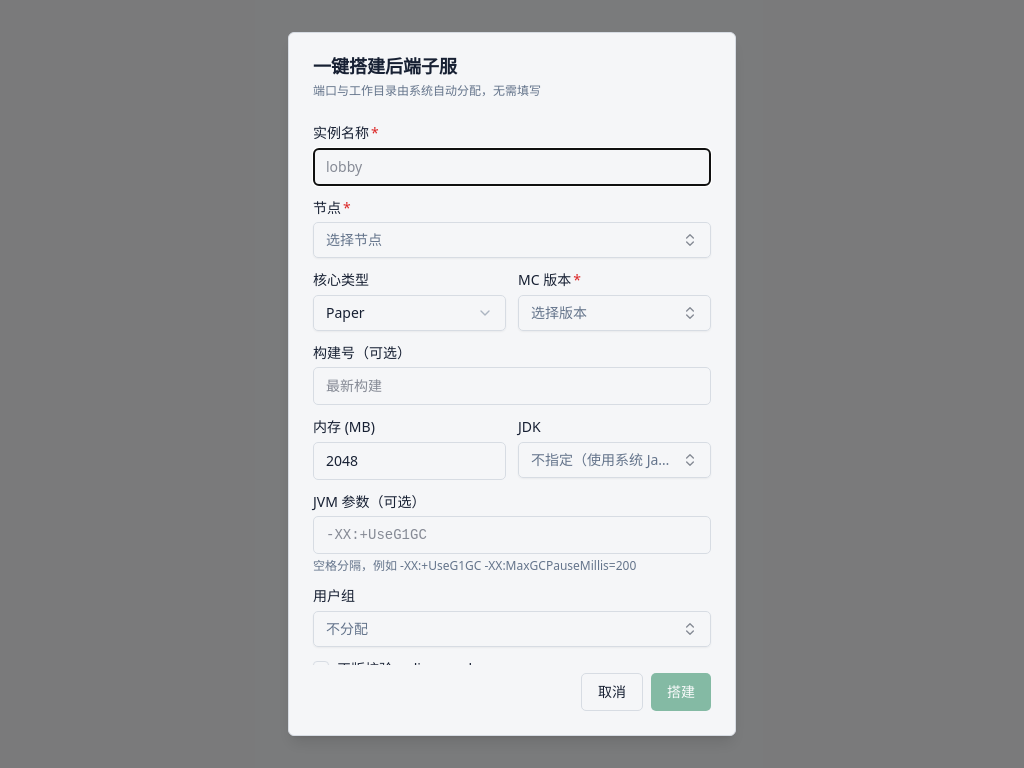
Scenario: ProvisionServerDialog MC 版本下拉可滚动（FR-328） › 长版本列表渲染进有视口约束的内滚容器（max-h + overflow-y-auto）
The image size is (1024, 768).
Expected: the dialog "一键搭建后端子服" is shown, [288,32,736,736]
触发器占位在版本列表加载完成后才从「加载版本中…」变为「选择版本」
Click the button "选择版本" at (614, 312), box [518,294,711,330]
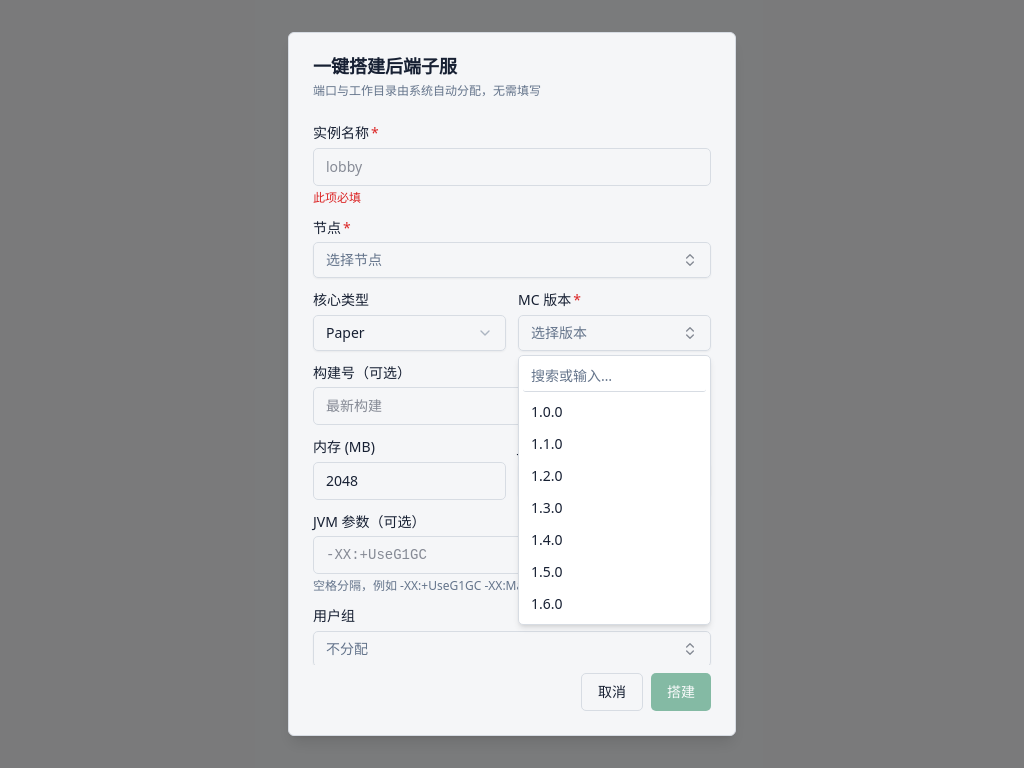
Expected: the button "1.0.0" is shown, [523,396,706,428]
